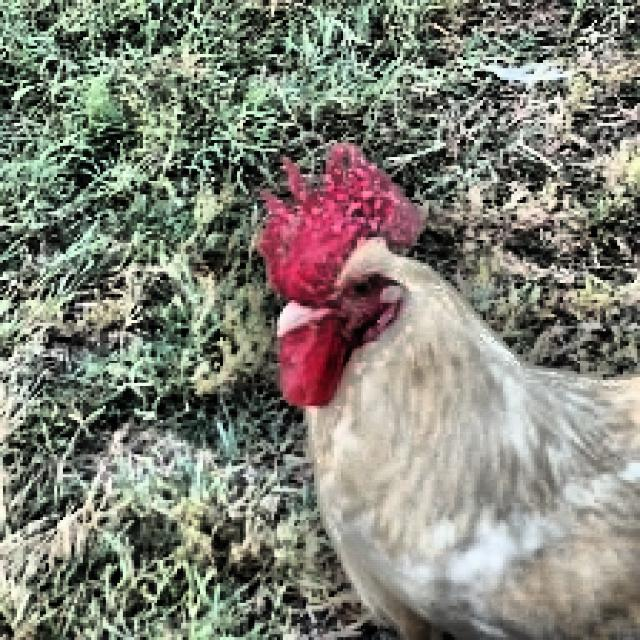Fowlpox: (230, 126, 430, 368)
